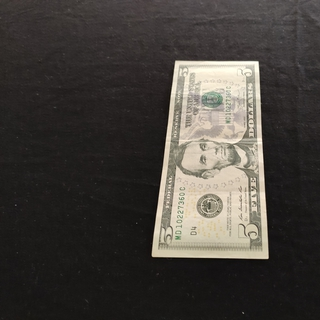5USDFront: (151, 59, 270, 259)
